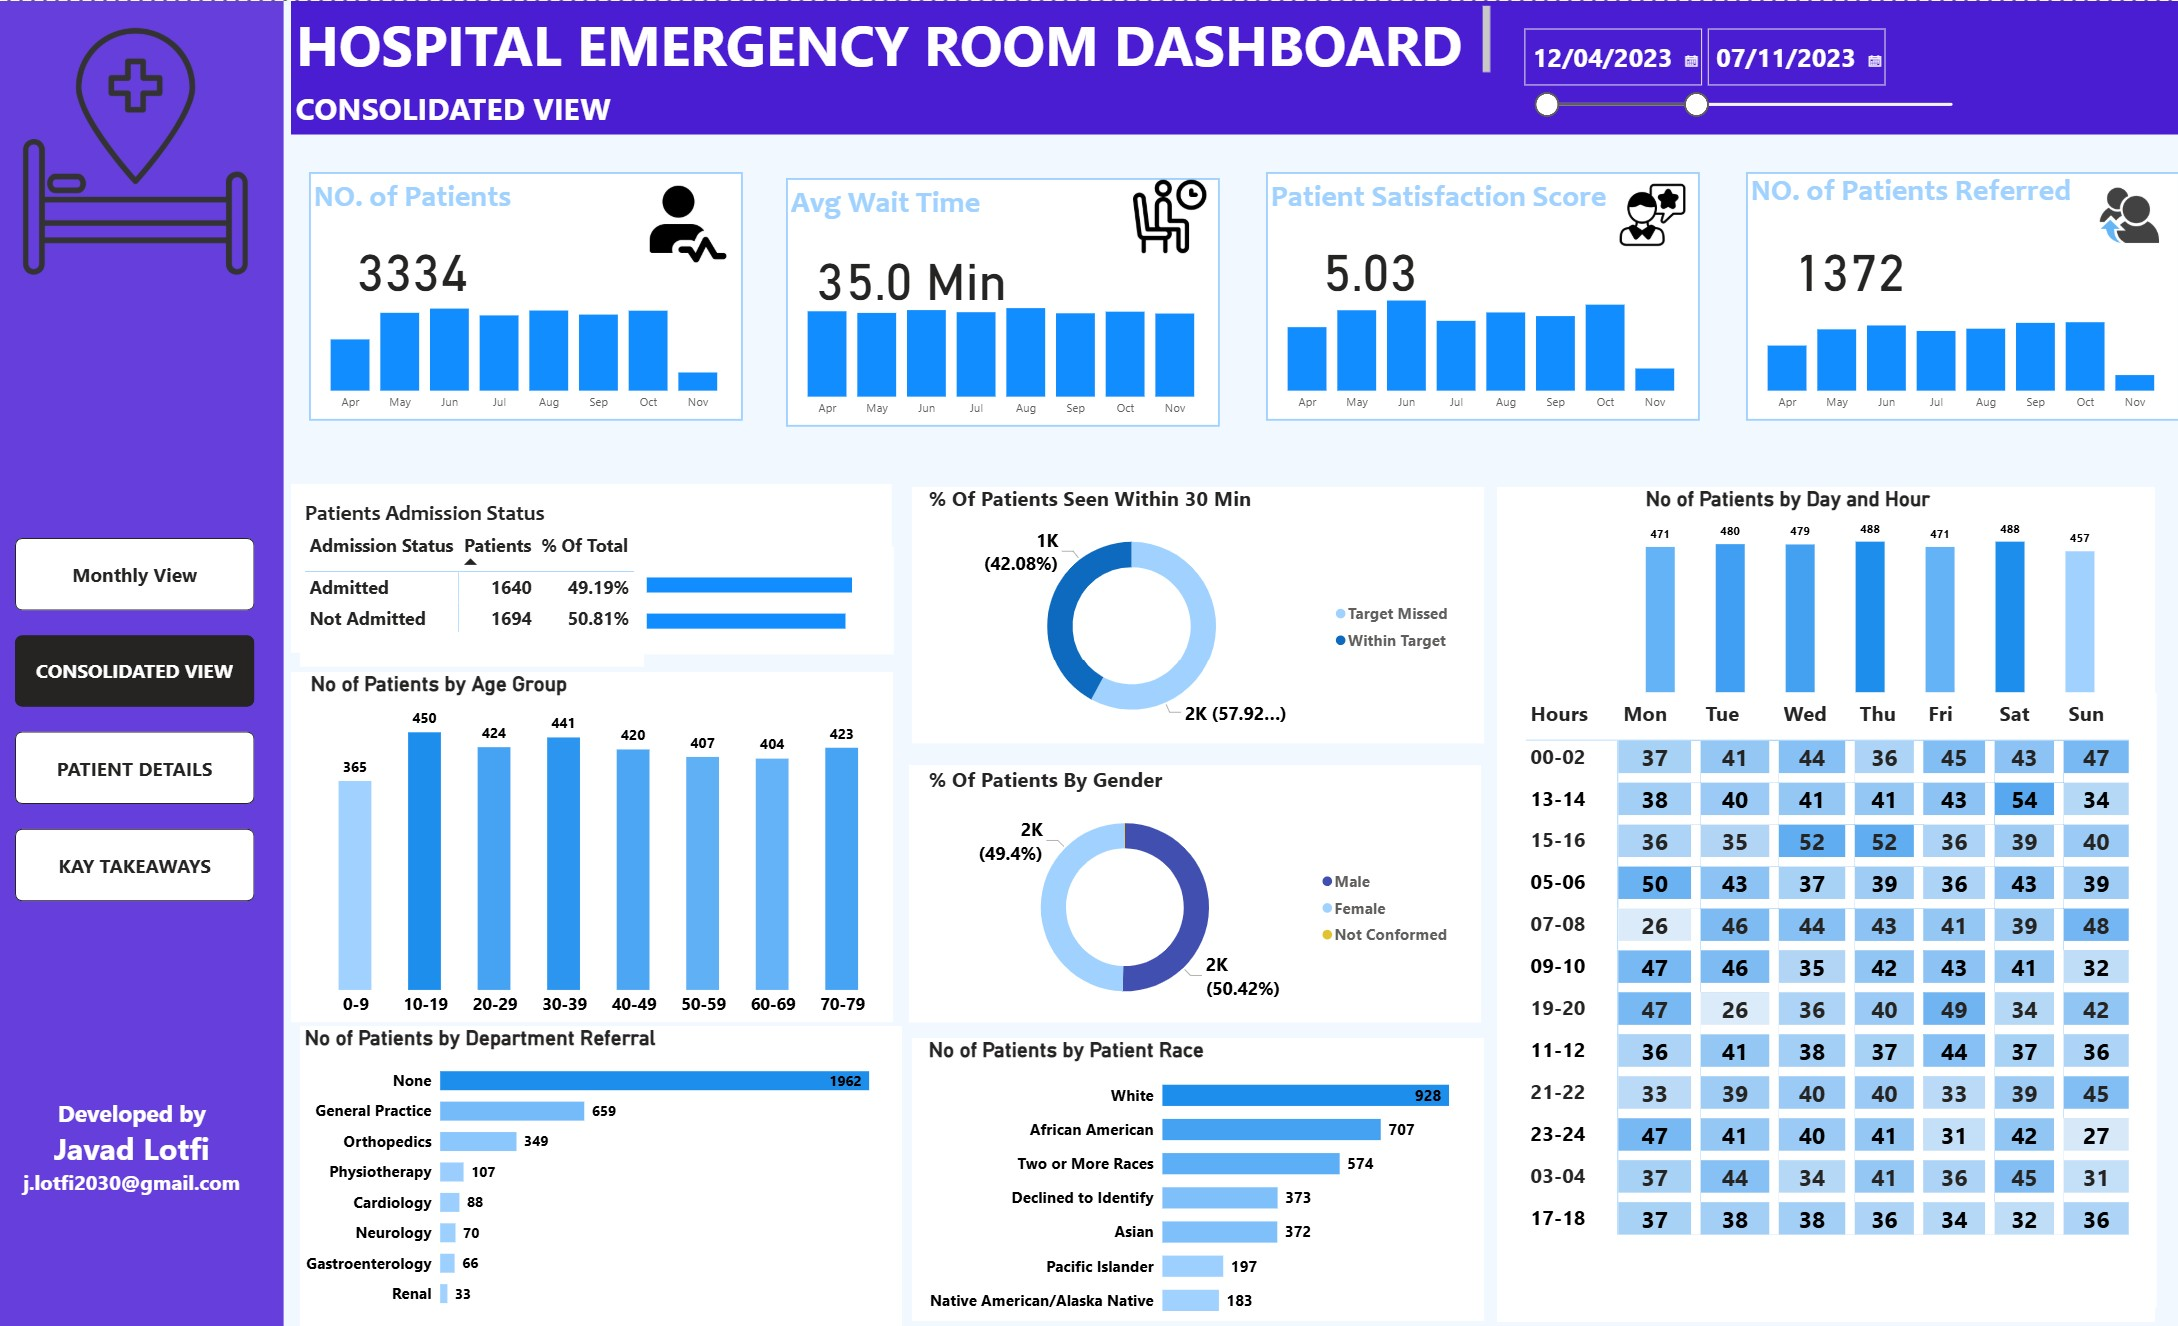

What the dashboard file says about the page in this screenshot:
{"tool":"powerbi","page":{"name":"CONSOLIDATED VIEW","canvas":[2300,1400],"ordinal":1},"visuals":[{"type":"shape","box":[335,179.6,455,260.9],"z":0,"group":"g1"},{"type":"shape","box":[1340.6,179.6,455,260.9],"z":0,"group":"g3"},{"type":"shape","box":[1843.4,179.6,455,260.9],"z":0,"group":"g4"},{"type":"shape","box":[837.8,184.1,455,260.9],"z":0,"group":"g2"},{"type":"shape","box":[328.5,1075.8,631.3,325.3],"z":0},{"type":"shape","box":[318.6,507.8,630,177],"z":1000},{"type":"shape","box":[0,0,310,1396.7],"z":2000},{"type":"shape","box":[318.9,0,1982,140],"z":3000},{"type":"textbox","box":[318.9,0,1262.6,83.7],"z":4000},{"type":"textbox","box":[318.9,83.7,415.5,54.8],"z":5000},{"type":"card","fields":{"Values":["Measure.No of Patients"]},"box":[352.1,234.4,185.9,89.6],"z":5000,"group":"g1"},{"type":"card","fields":{"Values":["Measure.Satisfaction Score"]},"box":[1357.7,234.4,185.9,89.6],"z":5000,"group":"g3"},{"type":"card","fields":{"Values":["Measure.No of Patient Referred"]},"box":[1860.5,234.4,185.9,89.6],"z":5000,"group":"g4"},{"type":"card","fields":{"Values":["Measure.AVG Wait Time"]},"box":[854.9,240.3,232.3,89.6],"z":5000,"group":"g2"},{"type":"slicer","fields":{"Values":["Date Table.Date"]},"box":[1597.6,19.3,483.1,119.2],"z":6000},{"type":"group","id":"g1","title":"Group 1","box":[332.2,179.6,457.9,260.4],"z":7000},{"type":"textbox","box":[1845.2,174.4,391.6,59.7],"z":8000,"group":"g4"},{"type":"textbox","box":[335,179.6,283.4,54.8],"z":8000,"group":"g1"},{"type":"textbox","box":[1341.7,181,388.3,63.1],"z":8000,"group":"g3"},{"type":"group","id":"g2","title":"Group 1","box":[835,184.1,458,260.9],"z":8000},{"type":"textbox","box":[837.8,184.1,283.4,54.8],"z":8000,"group":"g2"},{"type":"group","id":"g3","title":"Group 1","box":[1337.8,179.6,458,260.9],"z":9000},{"type":"columnChart","fields":{"Y":["Measure.No of Patients"],"Category":["Date Table.Month Name"]},"box":[332.2,294.1,458,146],"z":9000,"group":"g1"},{"type":"columnChart","fields":{"Y":["Sum(Hospital ER_Data.Patient Satisfaction Score)"],"Category":["Date Table.Month Name"]},"box":[1337.8,294.1,458,146],"z":9000,"group":"g3"},{"type":"columnChart","fields":{"Y":["Measure.No of Patient Referred"],"Category":["Date Table.Month Name"]},"box":[1840.6,294.1,458,146],"z":9000,"group":"g4"},{"type":"columnChart","fields":{"Y":["Avg(Hospital ER_Data.Patient Waittime)"],"Category":["Date Table.Month Name"]},"box":[835,298.6,458,146],"z":9000,"group":"g2"},{"type":"group","id":"g4","title":"Group 1","box":[1840.6,174.4,458,266.1],"z":10000},{"type":"pivotTable","title":"Patients Admission Status","fields":{"Rows":["Hospital ER_Data.Admission Status"],"Values":["Measure.No of Patients1","Measure.No of Patients"]},"box":[328.5,521.8,360.7,177.2],"z":11000},{"type":"clusteredBarChart","fields":{"Y":["Measure.No of Patients"],"Category":["Hospital ER_Data.Admission Status"]},"box":[686.1,573.3,264.1,112.7],"z":12000},{"type":"shape","box":[318.9,705.4,631.3,367.2],"z":13000},{"type":"clusteredColumnChart","fields":{"Category":["Hospital ER_Data.Age Group"],"Y":["Measure.No of Patients"]},"box":[335,705.4,615.2,370.4],"z":14000},{"type":"clusteredBarChart","fields":{"Category":["Hospital ER_Data.Department Referral"],"Y":["Measure.No of Patients"]},"box":[328.5,1075.8,641,309.2],"z":15000},{"type":"shape","box":[969.5,508.9,600,270],"z":16000},{"type":"donutChart","title":"% Of Patients Seen Within 30 Min","fields":{"Category":["Hospital ER_Data.Waittime Statuse"],"Y":["Measure.No of Patients"]},"box":[980,506.7,563.3,270],"z":17000},{"type":"shape","box":[966.7,803.3,600,270],"z":18000},{"type":"donutChart","title":"% Of Patients By Gender","fields":{"Y":["Measure.No of Patients"],"Category":["Hospital ER_Data.Patient Gender"]},"box":[980,803.3,563.3,270],"z":19000},{"type":"shape","box":[970,1090,600,296.7],"z":20000},{"type":"clusteredBarChart","fields":{"Y":["Measure.No of Patients"],"Category":["Hospital ER_Data.Patient Race"]},"box":[980,1090,590,306.7],"z":21000},{"type":"shape","box":[1583.3,510,690,876.7],"z":22000},{"type":"pivotTable","fields":{"Rows":["Hospital ER_Data.Waittime Interval"],"Columns":["Date Table.Day Name"],"Values":["Measure.No of Patients"]},"box":[1607.2,727.9,666.7,644.2],"z":23000},{"type":"columnChart","title":"No of Patients by Day and Hour","fields":{"Category":["Date Table.Day Name"],"Y":["Measure.No of Patients"]},"box":[1732.9,508.9,483.1,222.2],"z":24000},{"type":"image","box":[689.3,190,90.2,90.2],"z":25000},{"type":"image","box":[1185.3,183.6,106.3,87],"z":26000},{"type":"image","box":[1694.2,183.6,99.8,83.7],"z":27000},{"type":"image","box":[2190.2,173.9,109.5,96.6],"z":28000},{"type":"image","box":[0,0,309.2,315.7],"z":29000},{"type":"pageNavigator","box":[26.9,564.1,251.8,382.8],"z":30000},{"type":"textbox","box":[25.8,1146.7,251.2,161],"z":31000}]}

Visuals, with their boxes in screenshot pixels (x1, y1, x2, y2), scaled from the page's 2300x1400 canvas onto the 2178x1326 screenshot:
shape: box(317, 170, 748, 417)
shape: box(1269, 170, 1700, 417)
shape: box(1746, 170, 2176, 417)
shape: box(793, 174, 1224, 421)
shape: box(311, 1019, 909, 1325)
shape: box(302, 481, 898, 649)
shape: box(0, 0, 294, 1323)
shape: box(302, 0, 2177, 133)
textbox: box(302, 0, 1498, 79)
textbox: box(302, 79, 695, 131)
card - Measure.No of Patients: box(333, 222, 509, 307)
card - Measure.Satisfaction Score: box(1286, 222, 1462, 307)
card - Measure.No of Patient Referred: box(1762, 222, 1938, 307)
card - Measure.AVG Wait Time: box(810, 228, 1030, 312)
slicer - Date Table.Date: box(1513, 18, 1970, 131)
"Group 1" group: box(315, 170, 748, 417)
textbox: box(1747, 165, 2118, 222)
textbox: box(317, 170, 586, 222)
textbox: box(1271, 171, 1638, 231)
"Group 1" group: box(791, 174, 1224, 421)
textbox: box(793, 174, 1062, 226)
"Group 1" group: box(1267, 170, 1701, 417)
columnChart - Measure.No of Patients x Date Table.Month Name: box(315, 279, 748, 417)
columnChart - Sum(Hospital ER_Data.Patient Satisfaction Score) x Date Table.Month Name: box(1267, 279, 1701, 417)
columnChart - Measure.No of Patient Referred x Date Table.Month Name: box(1743, 279, 2177, 417)
columnChart - Avg(Hospital ER_Data.Patient Waittime) x Date Table.Month Name: box(791, 283, 1224, 421)
"Group 1" group: box(1743, 165, 2177, 417)
"Patients Admission Status" pivotTable: box(311, 494, 653, 662)
clusteredBarChart - Measure.No of Patients x Hospital ER_Data.Admission Status: box(650, 543, 900, 650)
shape: box(302, 668, 900, 1016)
clusteredColumnChart - Hospital ER_Data.Age Group x Measure.No of Patients: box(317, 668, 900, 1019)
clusteredBarChart - Hospital ER_Data.Department Referral x Measure.No of Patients: box(311, 1019, 918, 1312)
shape: box(918, 482, 1486, 738)
"% Of Patients Seen Within 30 Min" donutChart: box(928, 480, 1461, 736)
shape: box(915, 761, 1484, 1017)
"% Of Patients By Gender" donutChart: box(928, 761, 1461, 1017)
shape: box(919, 1032, 1487, 1313)
clusteredBarChart - Measure.No of Patients x Hospital ER_Data.Patient Race: box(928, 1032, 1487, 1323)
shape: box(1499, 483, 2153, 1313)
pivotTable - Hospital ER_Data.Waittime Interval x Date Table.Day Name: box(1522, 689, 2153, 1300)
"No of Patients by Day and Hour" columnChart: box(1641, 482, 2098, 692)
image: box(653, 180, 738, 265)
image: box(1122, 174, 1223, 256)
image: box(1604, 174, 1699, 253)
image: box(2074, 165, 2177, 256)
image: box(0, 0, 293, 299)
pageNavigator: box(25, 534, 264, 897)
textbox: box(24, 1086, 262, 1239)
